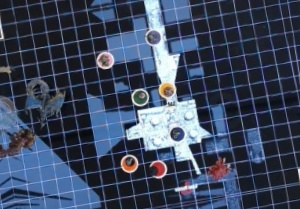blue: (166, 122, 191, 145)
green: (130, 84, 153, 108)
orange: (118, 151, 142, 175)
pink: (93, 48, 118, 71)
red: (144, 155, 169, 180)
violet: (141, 26, 165, 49)
yellow: (156, 78, 179, 100)
